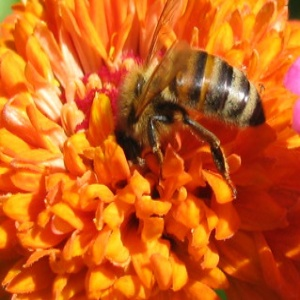bee: (118, 17, 268, 204)
